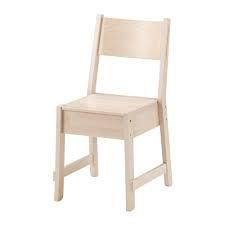chair: (44, 9, 184, 209)
